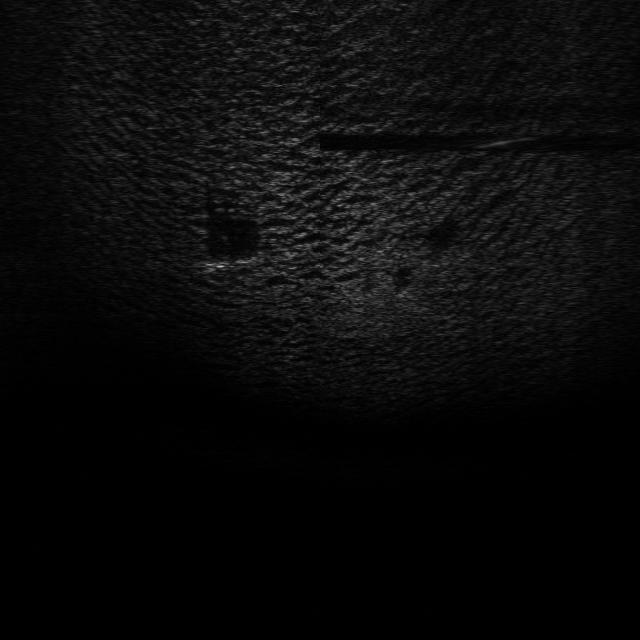plane: (194, 256, 264, 280)
